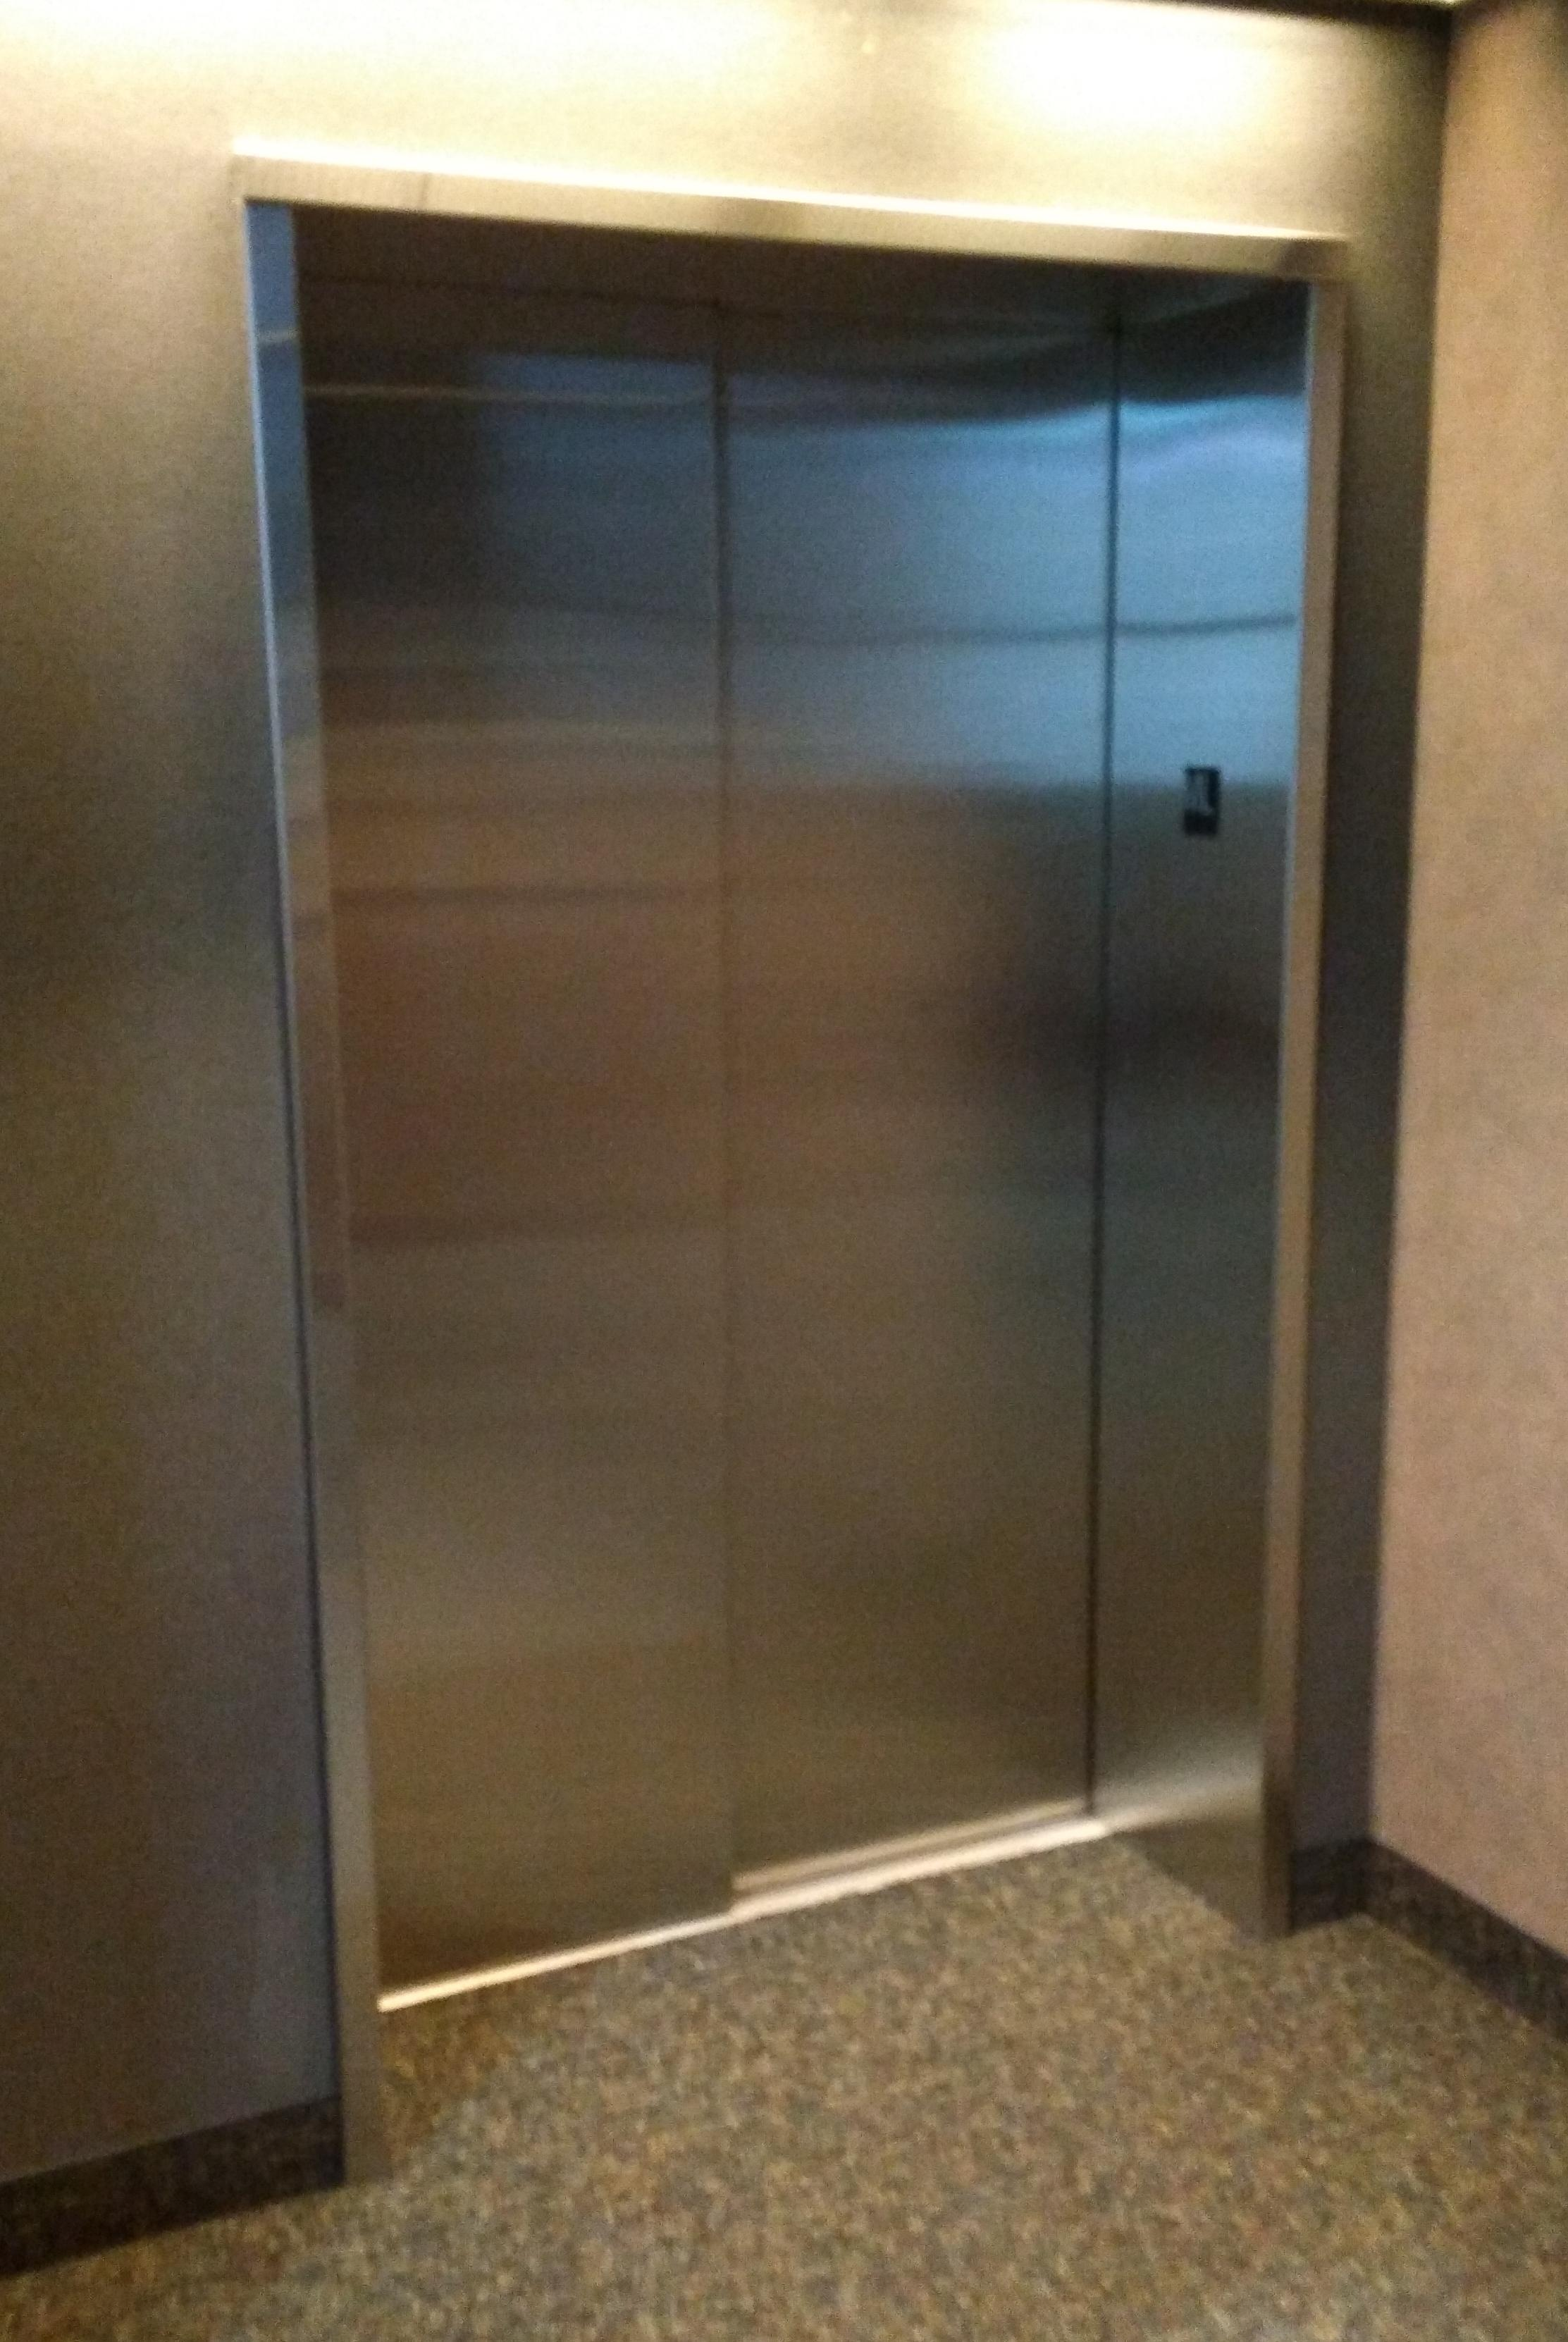door: (220, 138, 1358, 2190)
